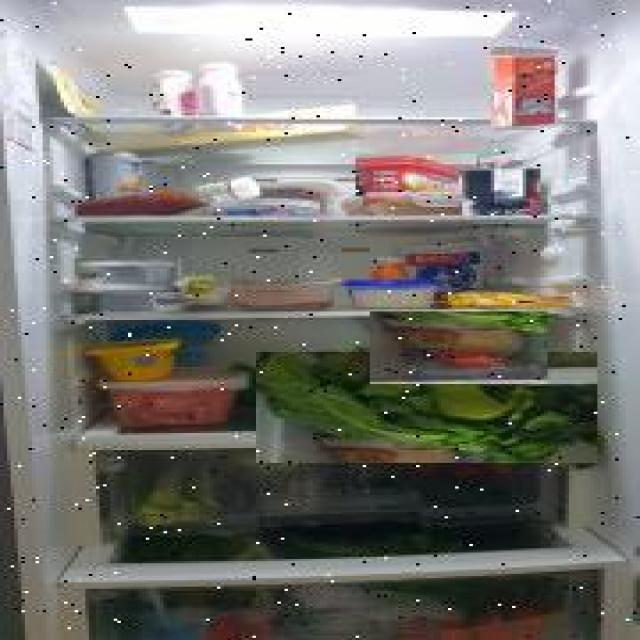butter: (356, 154, 476, 196)
cheese: (77, 260, 183, 294), (85, 289, 188, 313)
grated_cheese: (370, 311, 548, 384)
marmelade: (464, 168, 542, 216)
pak_choi: (256, 352, 597, 463)
tomato_sauce: (491, 47, 558, 128)
